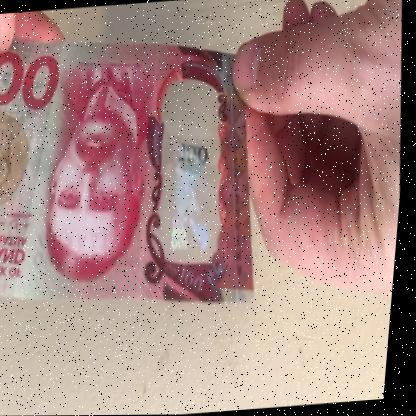100F: (160, 96, 229, 257)
